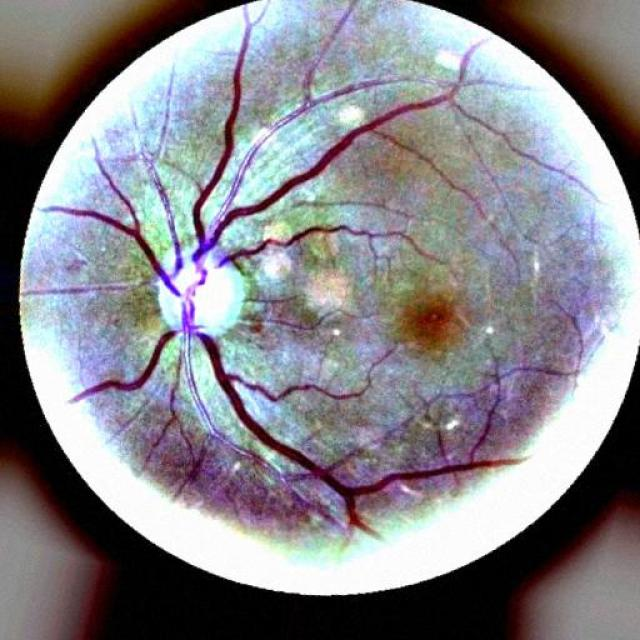Macula: (382, 282, 477, 351)
Nerves: (176, 32, 440, 512)
Optic Disk: (146, 237, 260, 344)
